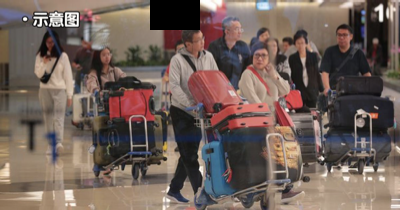without_mask: (252, 51, 270, 69), (230, 24, 243, 41), (337, 31, 350, 46), (194, 34, 205, 51), (101, 50, 112, 63), (267, 42, 278, 55), (46, 39, 56, 50), (295, 40, 306, 50), (259, 32, 269, 42), (282, 42, 291, 52)
